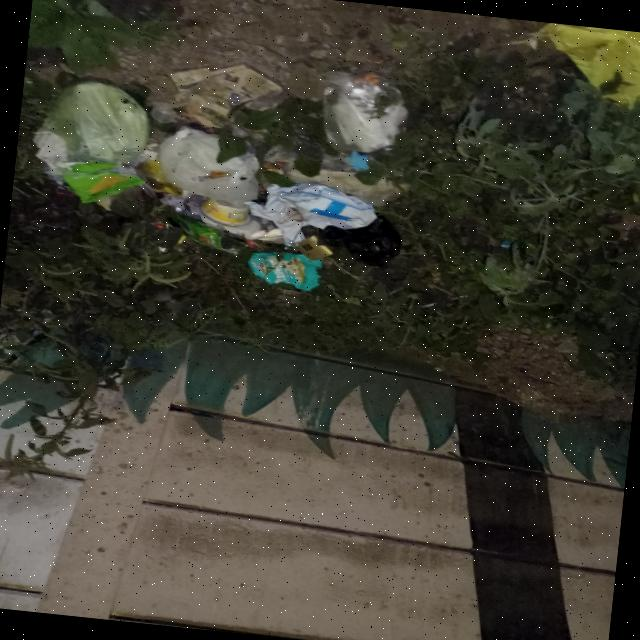garbage: (13, 28, 430, 318)
